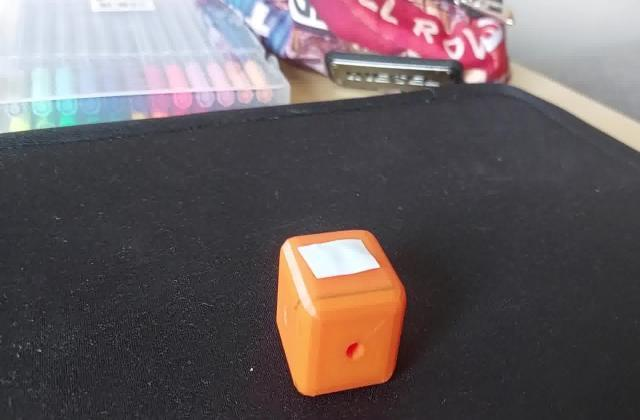cube: (270, 222, 410, 400)
white: (300, 241, 374, 285)
